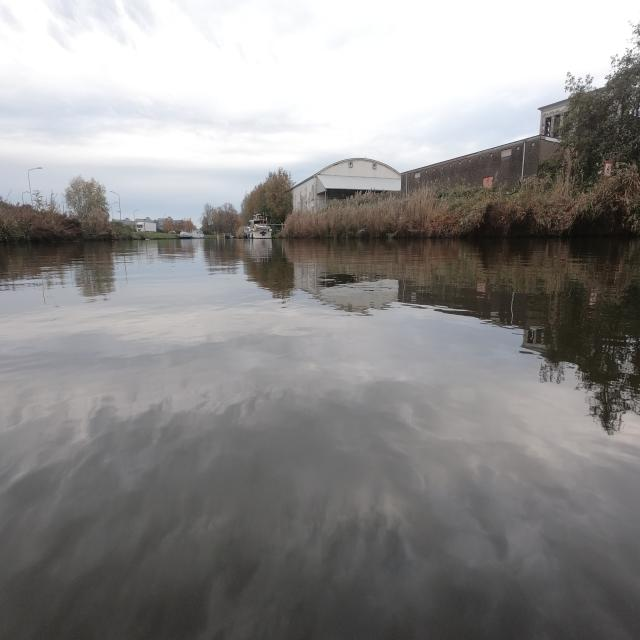boat: (247, 213, 271, 239), (180, 231, 203, 238)
reed: (276, 164, 621, 239), (1, 198, 113, 242)
sky: (1, 1, 638, 217)
tree: (558, 22, 640, 183)
water: (1, 233, 639, 639)
